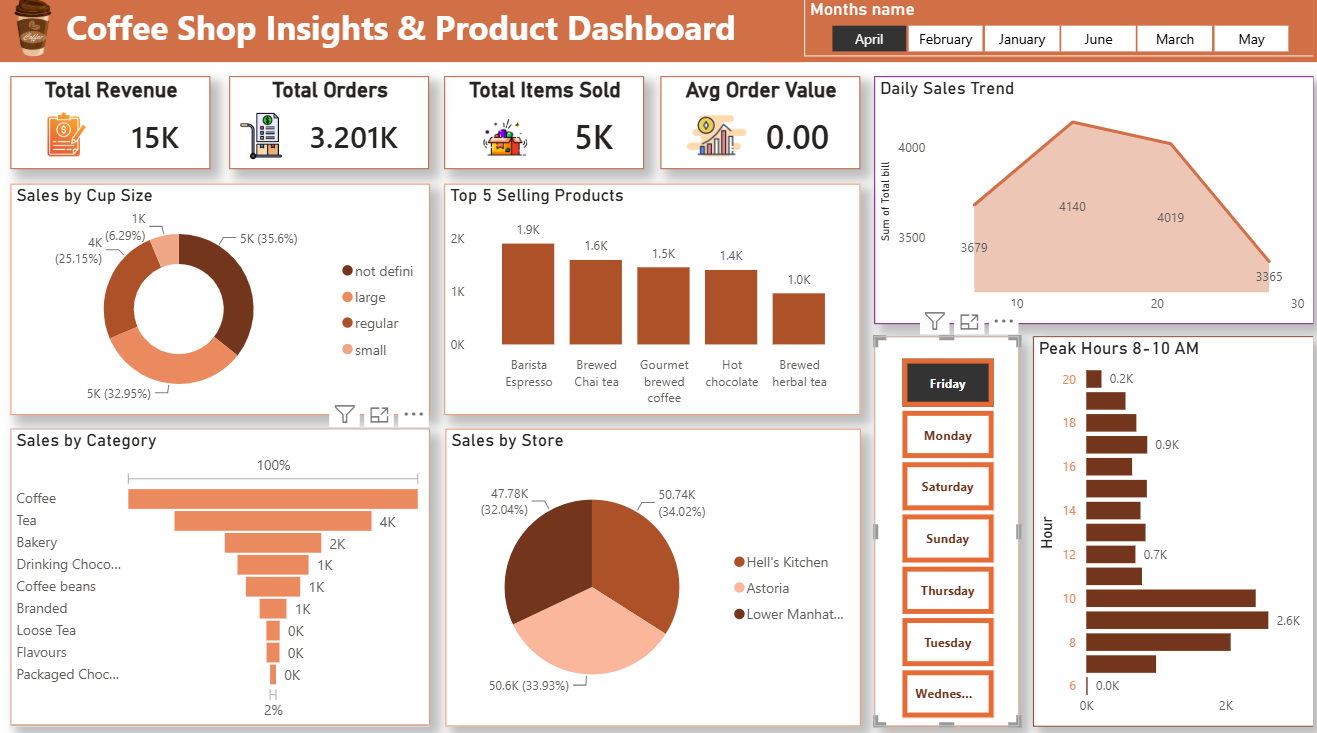

This screenshot's page, from the dashboard's own definition file:
{"tool":"powerbi","page":{"name":"Page 1","canvas":[1280,720],"ordinal":0},"visuals":[{"type":"shape","box":[0,0,778.2,70],"z":0},{"type":"shape","box":[735.9,0,544.1,70],"z":1000},{"type":"image","box":[12.1,0,43.4,71.2],"z":2000},{"type":"cardVisual","title":"Total Revenue ","fields":{"Data":["Sum(Transactions.Total bill)"]},"box":[12.1,83.2,193,89.3],"z":3000},{"type":"image","box":[43.4,106.2,45.8,66.4],"z":4000},{"type":"cardVisual","title":"Total Orders ","fields":{"Data":["CountNonNull(Transactions.transaction_id)"]},"box":[223.2,83.2,193,89.3],"z":5000},{"type":"cardVisual","title":"Total Items Sold  ","fields":{"Data":["Sum(Transactions.transaction_qty)"]},"box":[430.7,83.2,193,89.3],"z":6000},{"type":"cardVisual","title":"Avg Order Value","fields":{"Data":["Avg(Transactions.avg order  revenue )"]},"box":[639.4,83.2,193,89.3],"z":7000},{"type":"image","box":[213.5,118.2,80.8,45.8],"z":8000},{"type":"image","box":[462,105.6,54.8,71.3],"z":9000},{"type":"image","box":[664.7,71.2,57.9,138.7],"z":10000},{"type":"stackedAreaChart","title":"Daily Sales Trend","fields":{"Category":["Transactions.transaction_date.Variation.Date Hierarchy.Day"],"Y":["Sum(Transactions.Total bill)"]},"box":[845.7,83.2,424.7,238.9],"z":11000},{"type":"barChart","title":"Peak Hours 8-10 AM ","fields":{"Category":["Transactions.Hour"],"Y":["Sum(Transactions.Total bill)"]},"box":[998.9,334.2,271.4,376.4],"z":12000},{"type":"donutChart","title":"Sales by Cup Size","fields":{"Category":["Transactions.status "],"Y":["Sum(Transactions.Total bill)"]},"box":[12.3,186.5,404.5,223.5],"z":13000},{"type":"slicer","title":"Months name ","fields":{"Values":["Transactions.Month Name"]},"box":[778.2,7.2,492.2,56.7],"z":14000},{"type":"funnel","title":"Sales  by Category","fields":{"Y":["Sum(Transactions.Total bill)"],"Category":["Transactions.product_category"]},"box":[12.3,423.7,404.5,286.5],"z":15000},{"type":"clusteredColumnChart","title":"Top 5  Selling Products","fields":{"Category":["Transactions.product_type"],"Y":["Sum(Transactions.Total bill)"]},"box":[430.5,186.5,401.7,223.5],"z":16000},{"type":"pieChart","title":"Sales by Store  ","fields":{"Category":["Transactions (2).store_location"],"Y":["CountNonNull(Transactions (2).transaction_id)"]},"box":[431.9,423.5,400.5,287.1],"z":17000},{"type":"slicer","fields":{"Values":["Transactions.Day Name"]},"box":[845.7,334.2,139.9,376.4],"z":17001}]}

Visuals, with their boxes in screenshot pixels (x1, y1, x2, y2), scaled from the page's 1280x720 canvas onto the 1317x733 screenshot:
shape: bbox=(0, 0, 801, 71)
shape: bbox=(757, 0, 1316, 71)
image: bbox=(12, 0, 57, 72)
"Total Revenue " cardVisual: bbox=(12, 85, 211, 176)
image: bbox=(45, 108, 92, 176)
"Total Orders " cardVisual: bbox=(230, 85, 428, 176)
"Total Items Sold  " cardVisual: bbox=(443, 85, 642, 176)
"Avg Order Value" cardVisual: bbox=(658, 85, 856, 176)
image: bbox=(220, 120, 303, 167)
image: bbox=(475, 108, 532, 180)
image: bbox=(684, 72, 743, 214)
"Daily Sales Trend" stackedAreaChart: bbox=(870, 85, 1307, 328)
"Peak Hours 8-10 AM " barChart: bbox=(1028, 340, 1307, 723)
"Sales by Cup Size" donutChart: bbox=(13, 190, 429, 417)
"Months name " slicer: bbox=(801, 7, 1307, 65)
"Sales  by Category" funnel: bbox=(13, 431, 429, 723)
"Top 5  Selling Products" clusteredColumnChart: bbox=(443, 190, 856, 417)
"Sales by Store  " pieChart: bbox=(444, 431, 856, 723)
slicer - Transactions.Day Name: bbox=(870, 340, 1014, 723)
